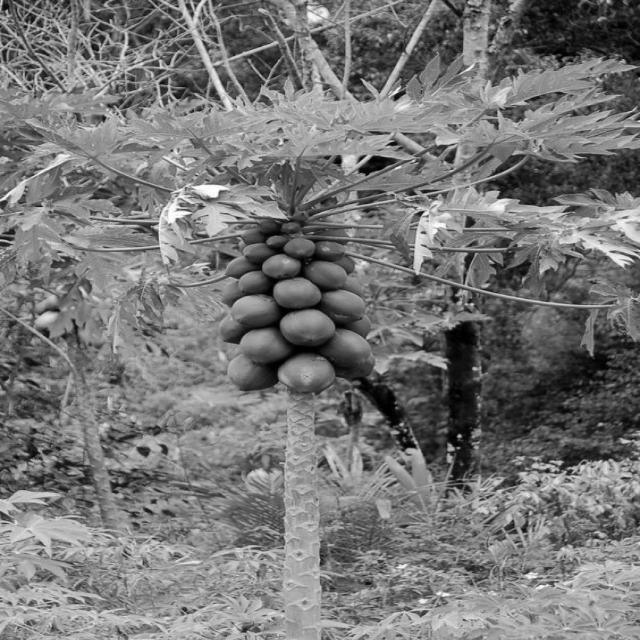Papaya-Tree: (9, 57, 640, 519)
